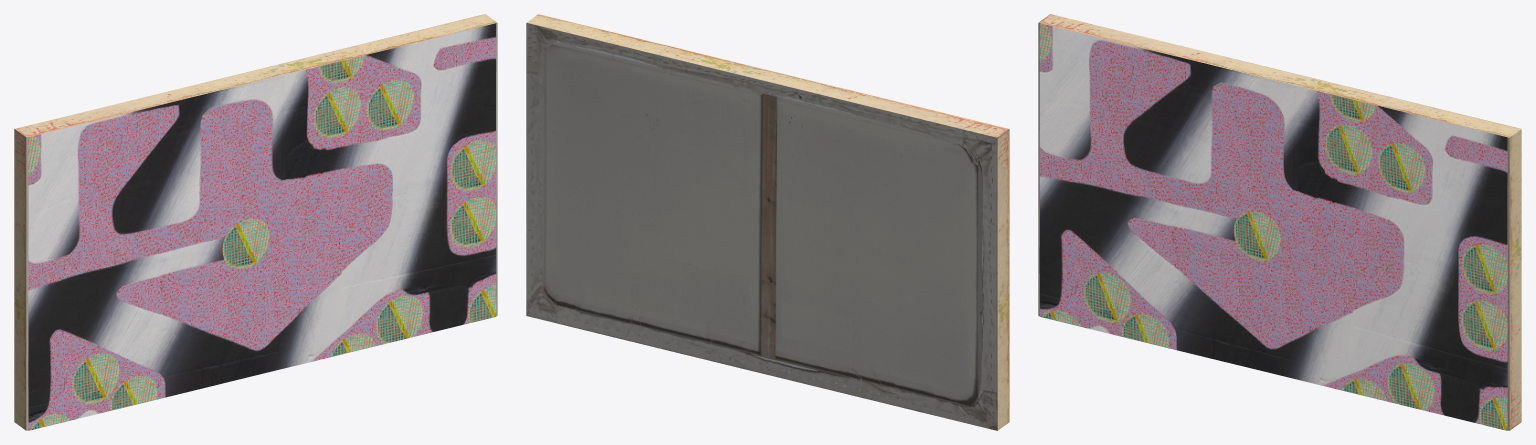
The model's file is those-who-spite-83d5a007.glb.
The picture shows the model from 3 angles, left to right: view 1: azimuth 30°, elevation 25°; view 2: azimuth 150°, elevation 25°; view 3: azimuth 330°, elevation 25°; orthographic projection.
Parts seen in each view (by area): view 1: Canvas, stretcher5by3; view 2: stretcher5by3; view 3: Canvas, stretcher5by3.
Part boxes in pixels (x1=…): Canvas: x1=28, y1=23, x2=496, y2=430; stretcher5by3: x1=14, y1=14, x2=497, y2=430; stretcher5by3: x1=526, y1=14, x2=1009, y2=430; Canvas: x1=1039, y1=23, x2=1507, y2=430; stretcher5by3: x1=1038, y1=14, x2=1521, y2=430.
Size of the model in its own units: 5.09 by 3.03 by 0.2302.
Materials: 5 (5 with a texture image).
